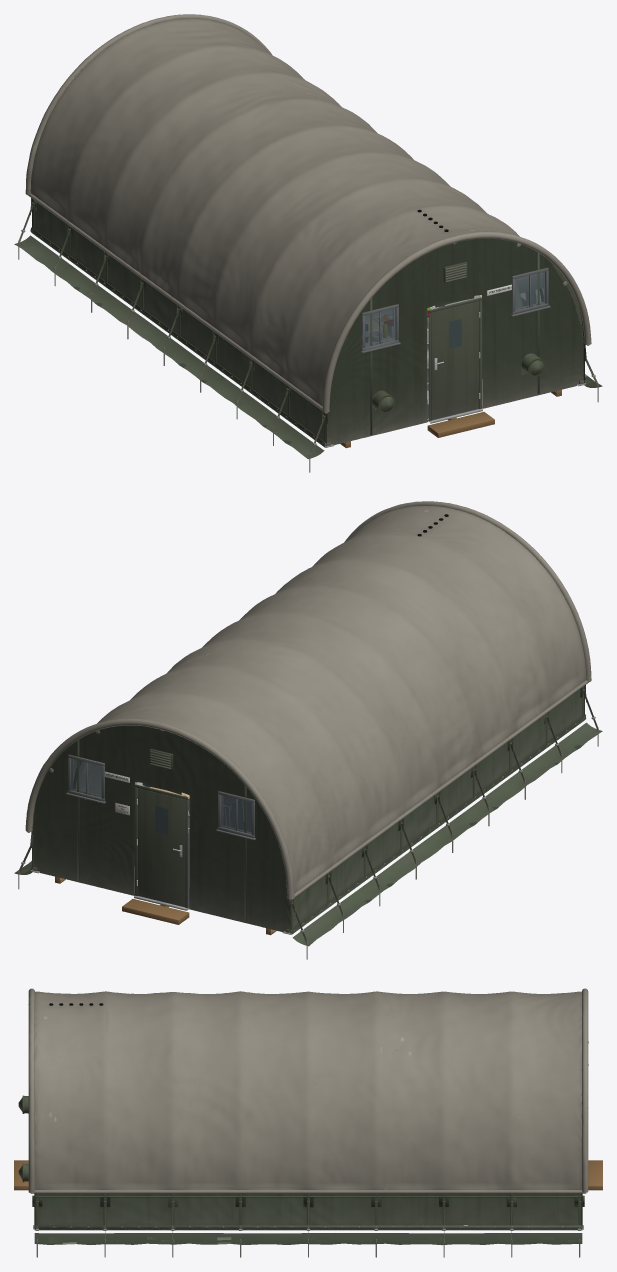
The model's file is series4-deployed-fitted-web.glb.
3 views of the same model, one above another, from view 1: azimuth 30°, elevation 25°; view 2: azimuth 150°, elevation 25°; view 3: azimuth 270°, elevation 25° (orthographic). The views are drawn at different scales.
Parts seen in each view (by area): view 1: SERIES4_thermal_cap, SERIES4_shelter, SERIES4_fitout, SERIES4_floor; view 2: SERIES4_thermal_cap, SERIES4_shelter, SERIES4_floor, SERIES4_fitout; view 3: SERIES4_thermal_cap, SERIES4_shelter, SERIES4_floor.
Part boxes in pixels (x1,y1,x2,y2): SERIES4_thermal_cap: [25, 14, 591, 428]; SERIES4_shelter: [14, 198, 602, 472]; SERIES4_fitout: [366, 273, 542, 418]; SERIES4_floor: [340, 389, 561, 448]; SERIES4_thermal_cap: [25, 501, 591, 915]; SERIES4_shelter: [14, 685, 602, 959]; SERIES4_floor: [55, 876, 276, 935]; SERIES4_fitout: [145, 786, 250, 905]; SERIES4_thermal_cap: [28, 988, 588, 1210]; SERIES4_shelter: [18, 1095, 584, 1257]; SERIES4_floor: [14, 1160, 602, 1190].
Size of the model in its own units: 5.71 by 3.77 by 10.59.
79 materials, 33 textured.
